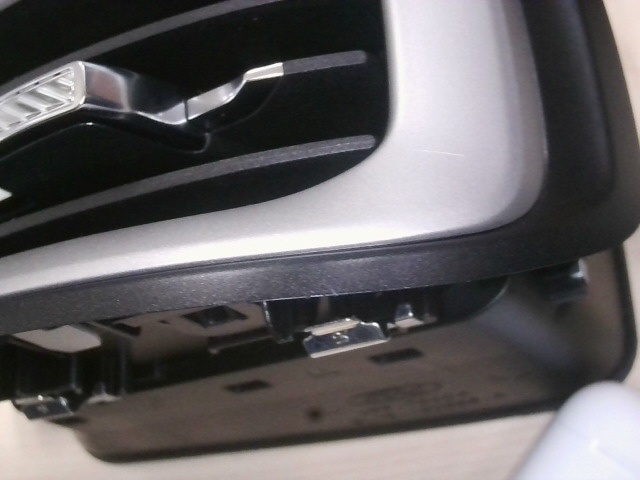NG: (306, 271, 353, 310), (411, 141, 471, 168)
